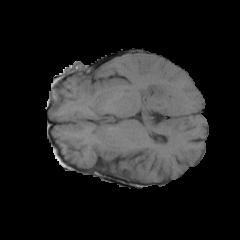glioma: (121, 72, 191, 110)
